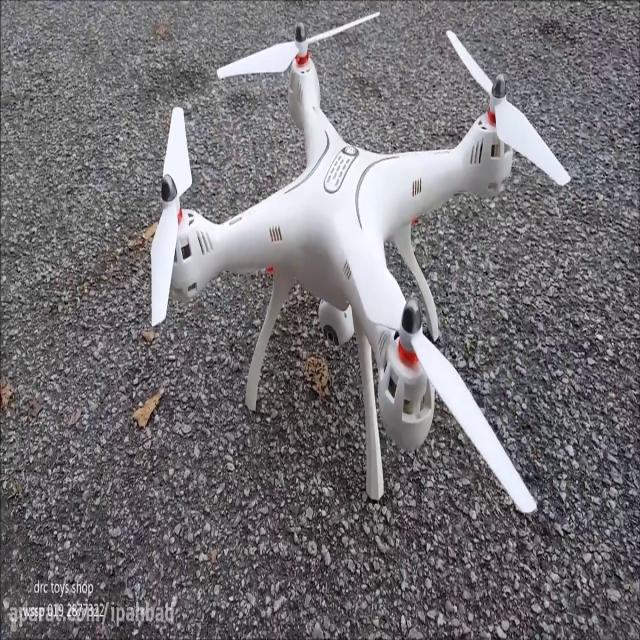drone: (142, 5, 574, 520)
